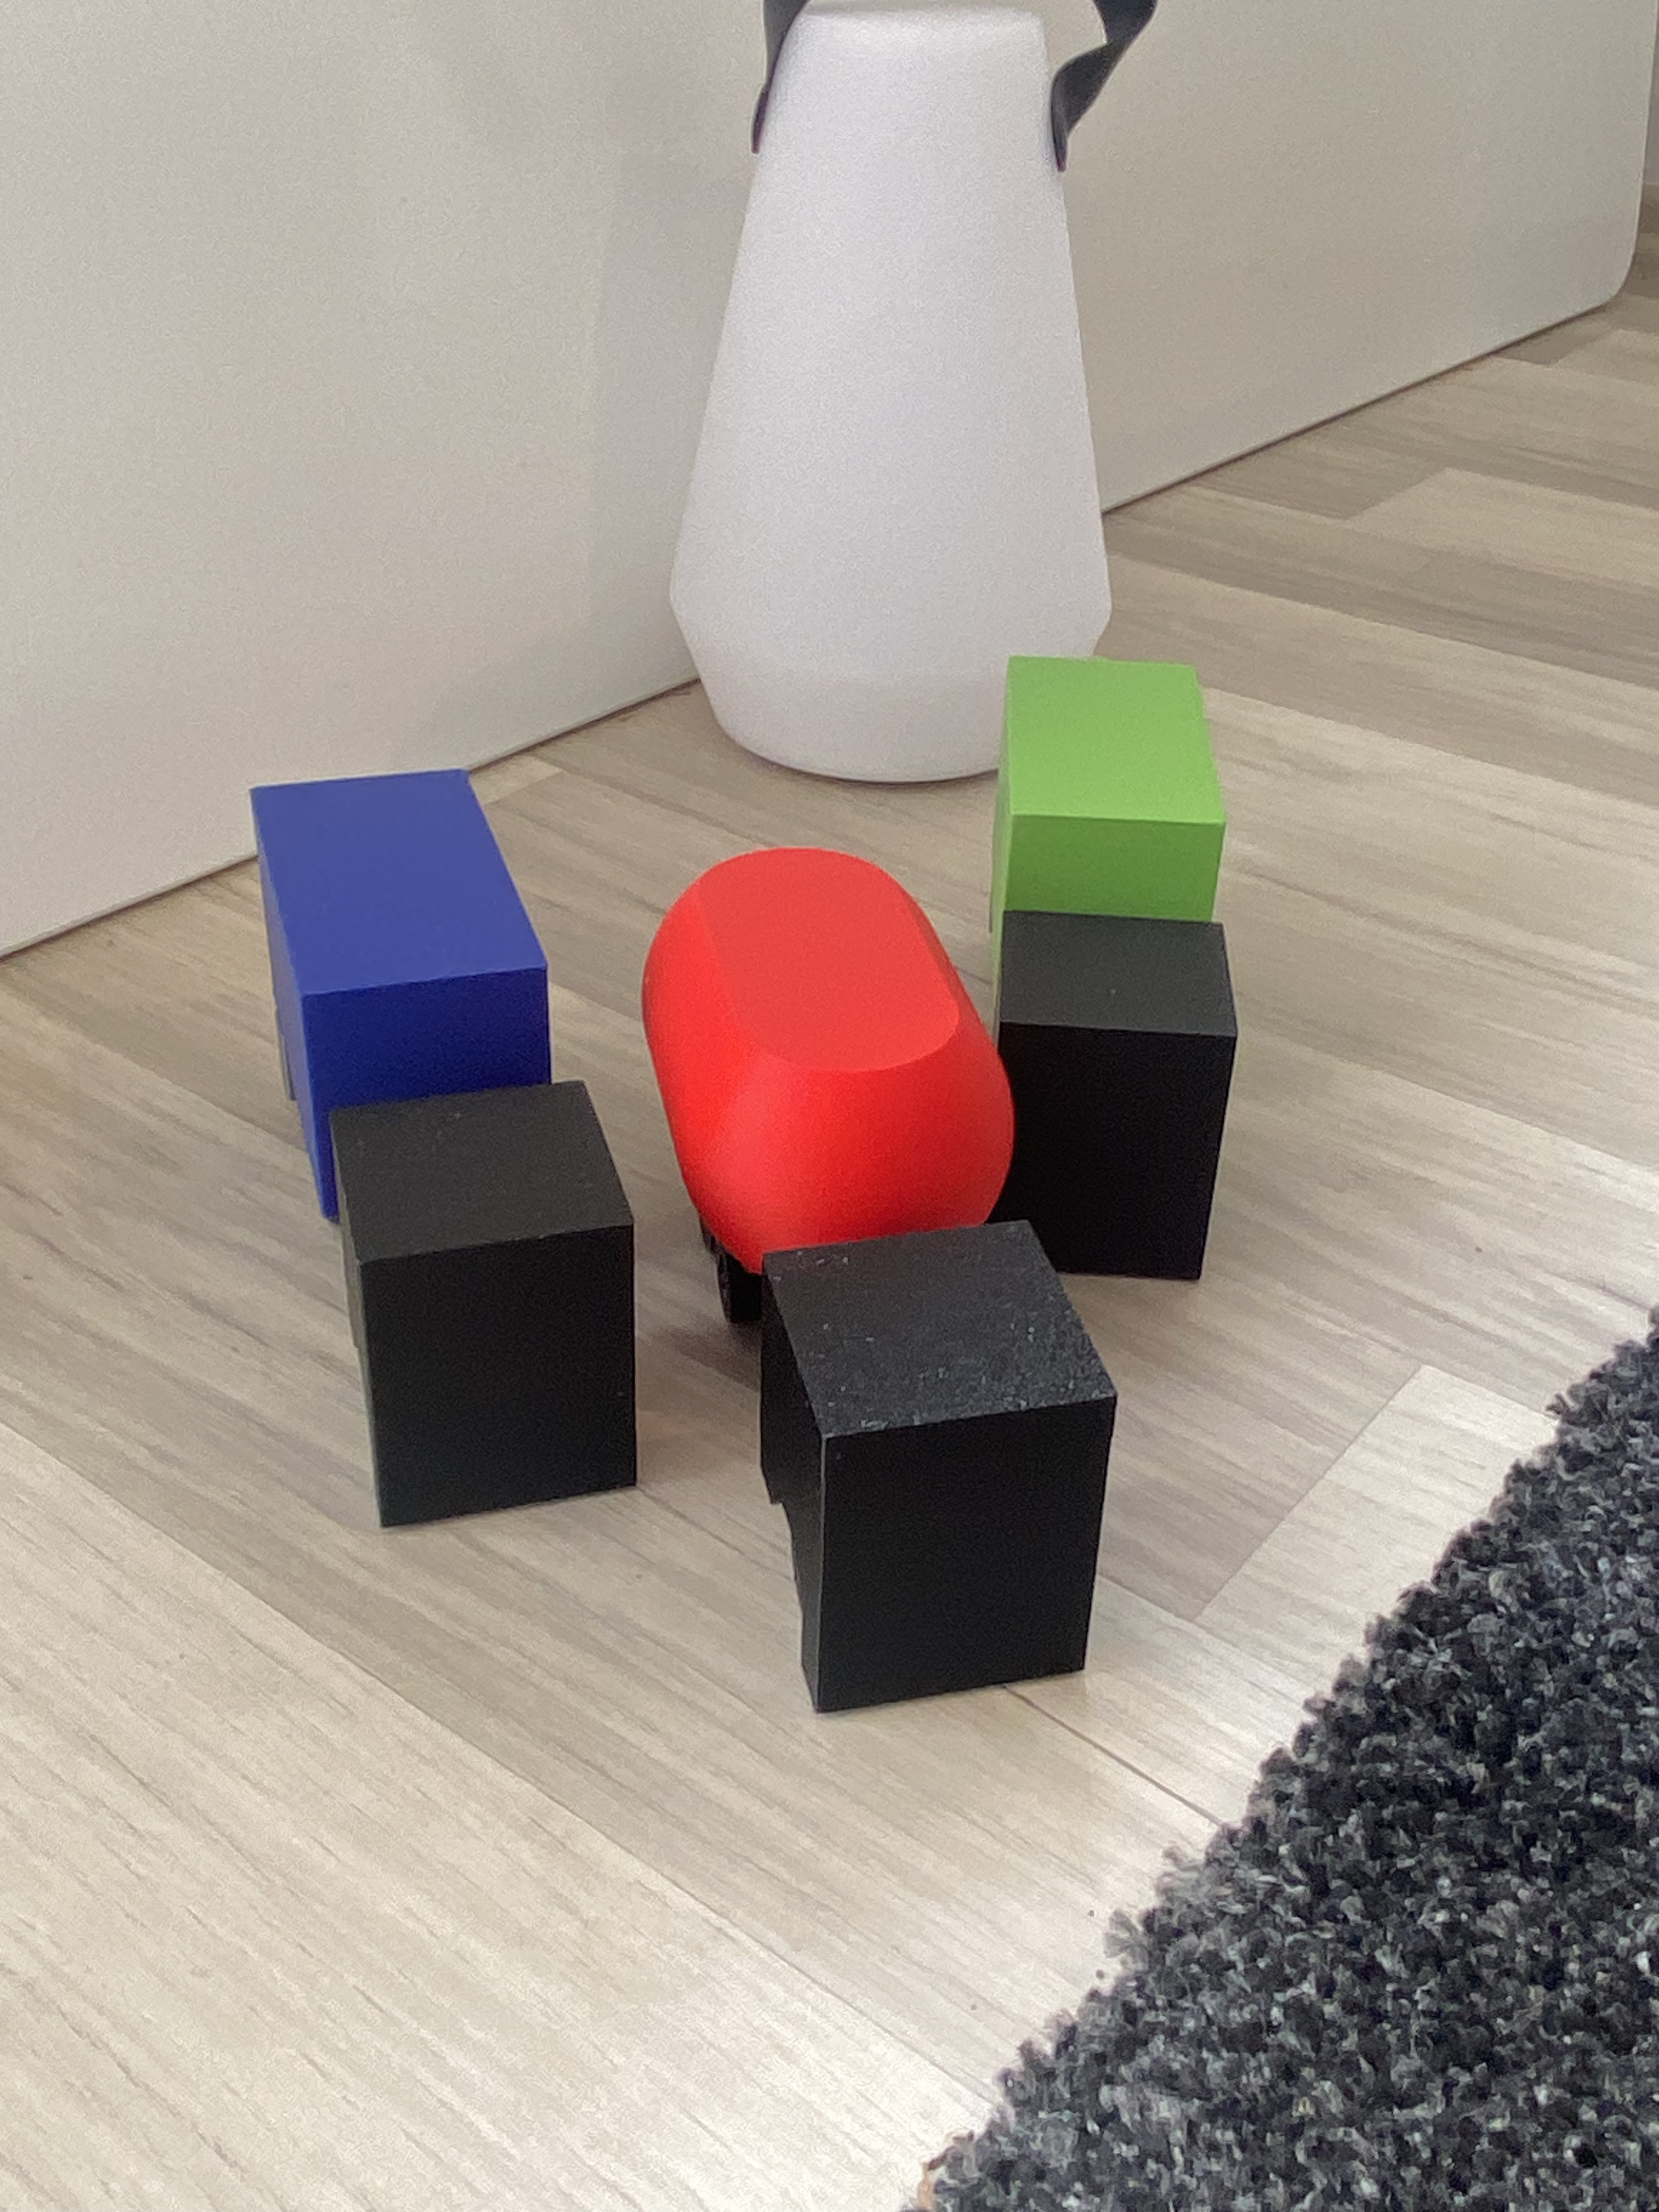blue_truck: (284, 718, 617, 1508)
green_truck: (985, 644, 1248, 1280)
red_truck: (706, 819, 1087, 1710)
